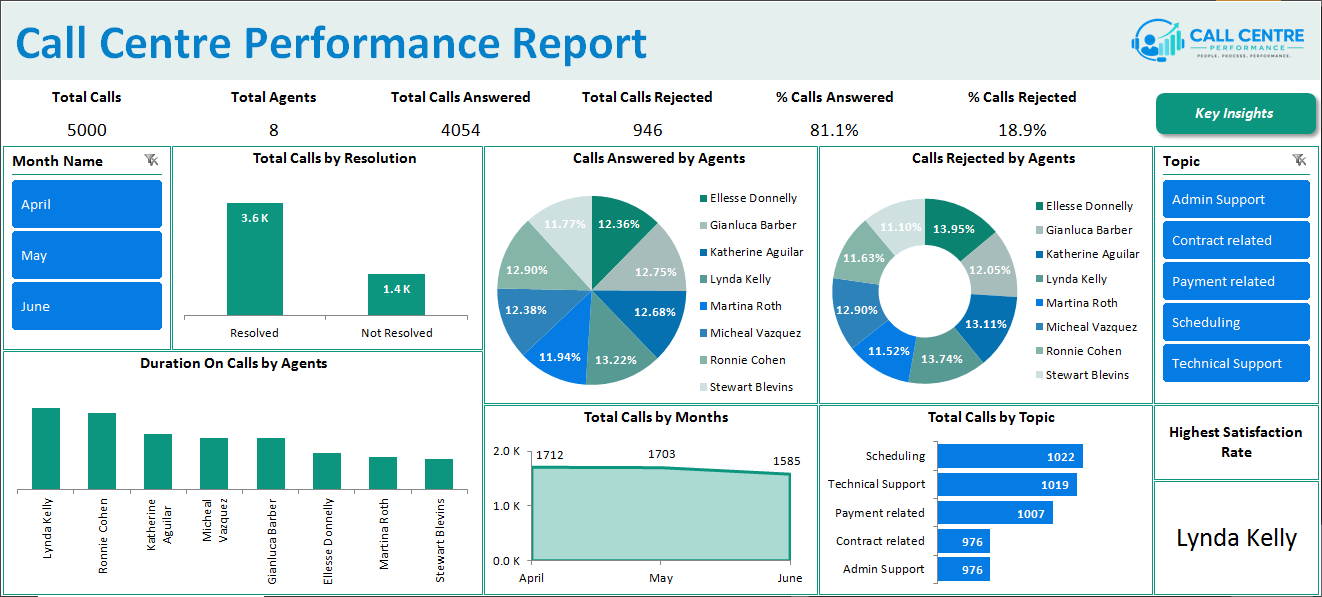

This screenshot's page, from the dashboard's own definition file:
{"tool":"powerbi","page":{"name":"Call Centre Performance Report","canvas":[3300,1800],"ordinal":0},"visuals":[{"type":"shape","box":[0,0,3299.2,246.9],"z":0},{"type":"shape","box":[2780.8,307.7,485.8,149.8],"z":0,"group":"g2"},{"type":"shape","box":[0,250.9,3299.1,264.7],"z":1000},{"type":"actionButton","box":[2837.5,327.9,372.4,113.3],"z":1000,"group":"g2"},{"type":"cardVisual","fields":{"Data":["Call Centre Performance Report.Total Calls","Call Centre Performance Report.Total Agents","Call Centre Performance Report.Total Calls Answered","Call Centre Performance Report.Total Calls Rejected","Call Centre Performance Report.% Calls Answered","Call Centre Performance Report.% Calls Rejected"]},"box":[0,259.1,2785.1,246.9],"z":2000},{"type":"image","box":[2627.2,0,672,275.3],"z":3000},{"type":"textbox","box":[64.8,28.3,1586.8,190.3],"z":4000},{"type":"group","id":"g1","title":"Group 1","box":[2780.8,307.7,485.8,149.8],"z":5000},{"type":"advancedSlicerVisual","fields":{"Values":["Call Centre Performance Report.Month Name"]},"box":[4,518.2,319.8,558.6],"z":6000},{"type":"clusteredColumnChart","title":"Total Calls by Resolution","fields":{"Category":["Call Centre Performance Report.Resolution"],"Y":["Call Centre Performance Report.Total Calls"]},"box":[327.9,518.2,890.6,558.6],"z":7000},{"type":"pieChart","title":"Calls Answered by Agents","fields":{"Y":["Call Centre Performance Report.Total Calls Answered"],"Category":["Call Centre Performance Report.Agent"]},"box":[1222.5,518.2,910.8,720.6],"z":8000},{"type":"clusteredColumnChart","title":"Duration On Calls by Agents","fields":{"Category":["Call Centre Performance Report.Agent"],"Y":["CountNonNull(Call Centre Performance Report.DurationOnCalls)"]},"box":[4,1080.8,1214.4,720.6],"z":9000},{"type":"areaChart","title":"Total Calls by Months","fields":{"Y":["Call Centre Performance Report.Total Calls"],"Category":["Call Centre Performance Report.Month Name"]},"box":[1222.5,1241.4,910.8,558.6],"z":10000},{"type":"donutChart","title":"Calls Rejected by Agents","fields":{"Category":["Call Centre Performance Report.Agent"],"Y":["Call Centre Performance Report.Total Calls Rejected"]},"box":[2137.4,518.2,805.6,720.6],"z":11000},{"type":"clusteredBarChart","title":"Total Calls by Topic","fields":{"Y":["Call Centre Performance Report.Total Calls"],"Category":["Call Centre Performance Report.Topic"]},"box":[2137.4,1241.4,805.6,558.6],"z":12000},{"type":"textbox","box":[2946.9,1241.8,343.9,166.3],"z":13000},{"type":"cardVisual","fields":{"Data":["Min(Call Centre Performance Report.Agent)"]},"box":[2946.9,1412.2,343.9,387.8],"z":14000},{"type":"group","id":"g2","title":"Group 2","box":[2780.8,307.7,485.8,149.8],"z":14002,"group":"g1"},{"type":"advancedSlicerVisual","fields":{"Values":["Call Centre Performance Report.Topic"]},"box":[2947,518.2,344.1,720.6],"z":15000}]}

Visuals, with their boxes on the page's 3300x1800 design canvas (x1, y1, x2, y2). These are canvas units, not pixel positions in the 1322x597 screenshot, which may show the page scaled, cropped or inside an application window:
shape: x1=0, y1=0, x2=3299, y2=247
shape: x1=2781, y1=308, x2=3267, y2=458
shape: x1=0, y1=251, x2=3299, y2=516
actionButton: x1=2838, y1=328, x2=3210, y2=441
cardVisual - Call Centre Performance Report.Total Calls x Call Centre Performance Report.Total Agents: x1=0, y1=259, x2=2785, y2=506
image: x1=2627, y1=0, x2=3299, y2=275
textbox: x1=65, y1=28, x2=1652, y2=219
"Group 1" group: x1=2781, y1=308, x2=3267, y2=458
advancedSlicerVisual - Call Centre Performance Report.Month Name: x1=4, y1=518, x2=324, y2=1077
"Total Calls by Resolution" clusteredColumnChart: x1=328, y1=518, x2=1218, y2=1077
"Calls Answered by Agents" pieChart: x1=1222, y1=518, x2=2133, y2=1239
"Duration On Calls by Agents" clusteredColumnChart: x1=4, y1=1081, x2=1218, y2=1801
"Total Calls by Months" areaChart: x1=1222, y1=1241, x2=2133, y2=1800
"Calls Rejected by Agents" donutChart: x1=2137, y1=518, x2=2943, y2=1239
"Total Calls by Topic" clusteredBarChart: x1=2137, y1=1241, x2=2943, y2=1800
textbox: x1=2947, y1=1242, x2=3291, y2=1408
cardVisual - Min(Call Centre Performance Report.Agent): x1=2947, y1=1412, x2=3291, y2=1800
"Group 2" group: x1=2781, y1=308, x2=3267, y2=458
advancedSlicerVisual - Call Centre Performance Report.Topic: x1=2947, y1=518, x2=3291, y2=1239
